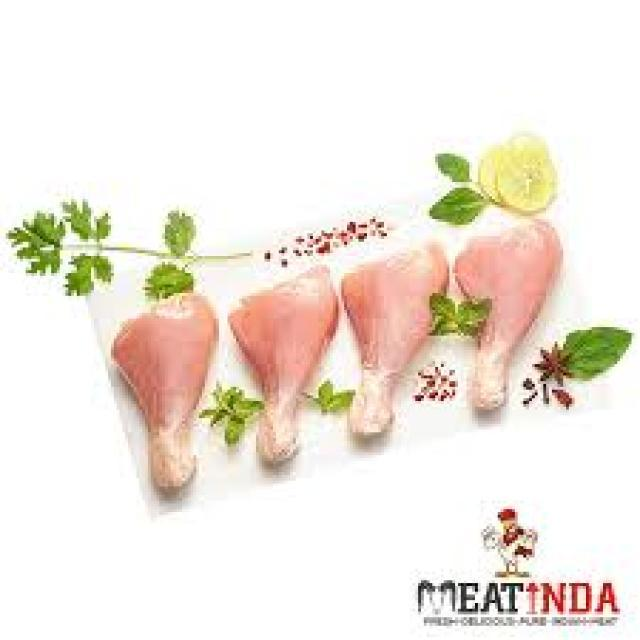leg: (334, 230, 456, 480), (221, 254, 343, 488), (100, 296, 226, 510), (448, 207, 560, 421)
